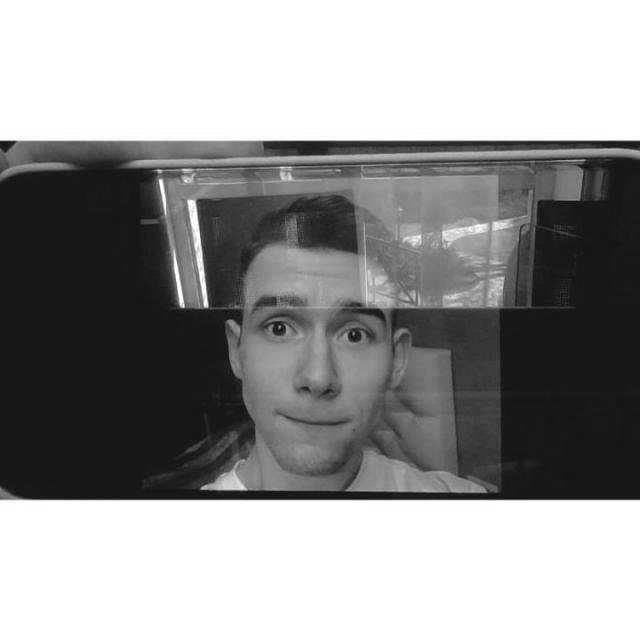fake: (0, 154, 639, 498)
